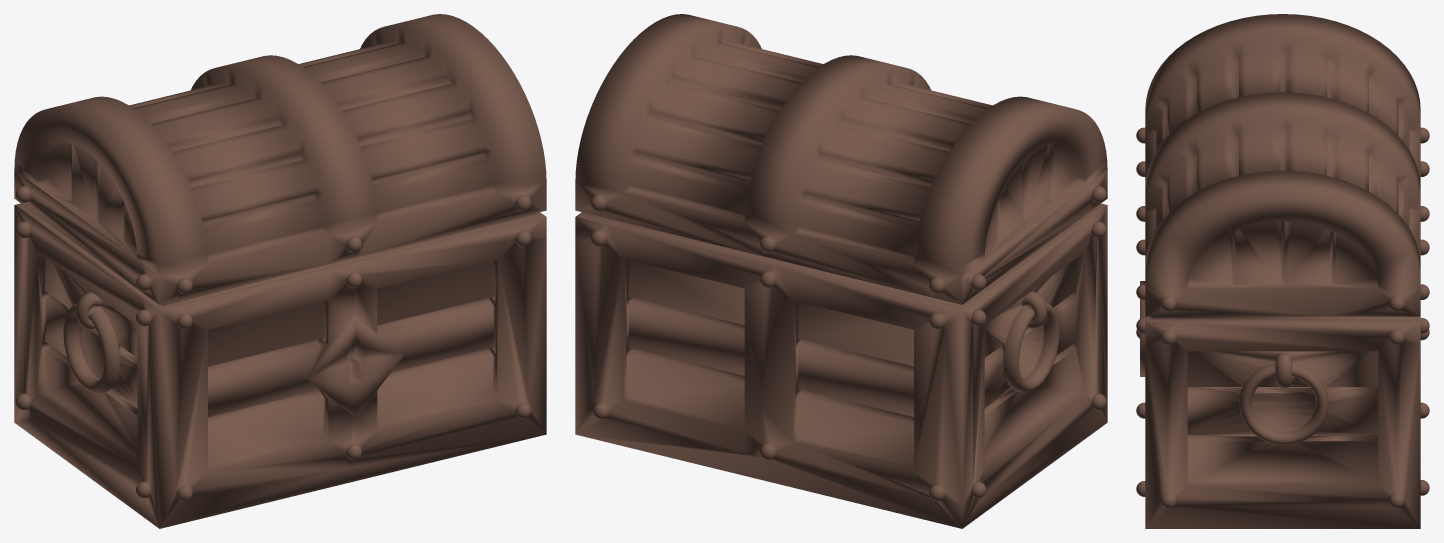
File: treasure_chest.fbx
The picture shows the model from 3 angles, left to right: view 1: azimuth 30°, elevation 25°; view 2: azimuth 150°, elevation 25°; view 3: azimuth 270°, elevation 25°; orthographic projection. The views are drawn at different scales.
Visible parts, largest first — view 1: Chest_08.001, Chest_08; view 2: Chest_08.001, Chest_08; view 3: Chest_08, Chest_08.001.
Boxes of the visible parts, bbox=[...] form: Chest_08.001: bbox=[14, 203, 546, 528]; Chest_08: bbox=[14, 14, 546, 304]; Chest_08.001: bbox=[575, 203, 1107, 528]; Chest_08: bbox=[575, 14, 1107, 304]; Chest_08: bbox=[1136, 14, 1429, 316]; Chest_08.001: bbox=[1136, 161, 1429, 528].
Size of the model in its own units: 256 by 214 by 169.
